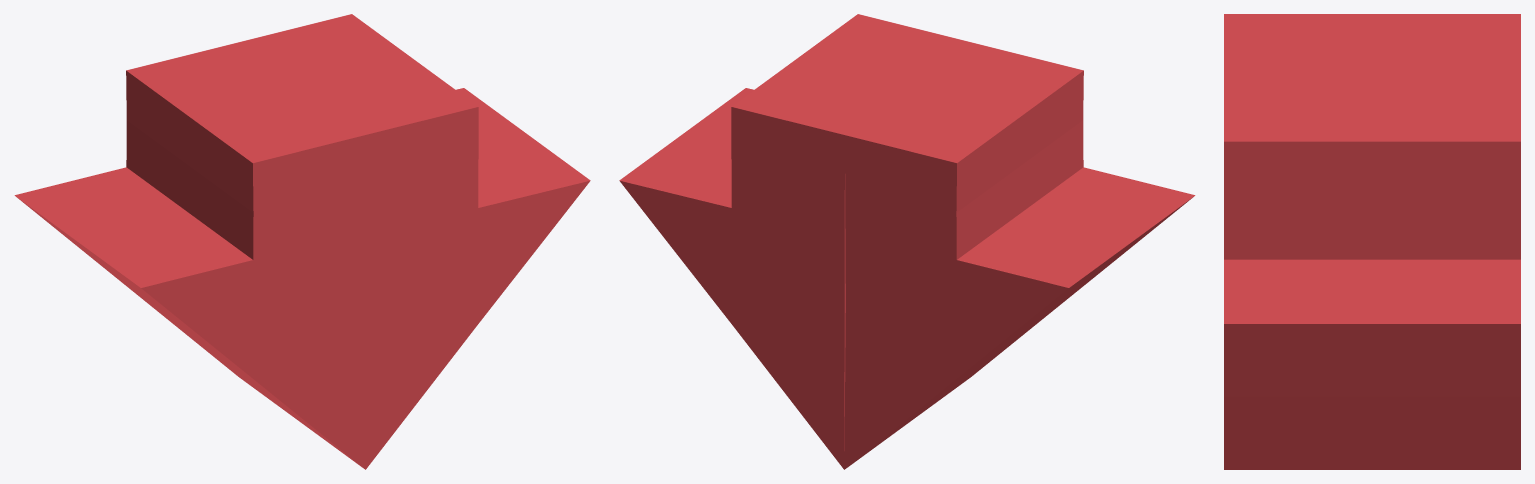
3 views of the same model, side by side, from view 1: azimuth 30°, elevation 25°; view 2: azimuth 150°, elevation 25°; view 3: azimuth 270°, elevation 25° (orthographic). The views are drawn at different scales.
Visible parts, largest first — view 1: base5.001; view 2: base5.001; view 3: base5.001.
Part boxes in pixels (x1,y1,x2,y2): base5.001: (14, 14, 590, 469); base5.001: (619, 14, 1195, 469); base5.001: (1224, 14, 1520, 469).
Bounding box in the file's own units: 3.14 × 2.24 × 1.53.
